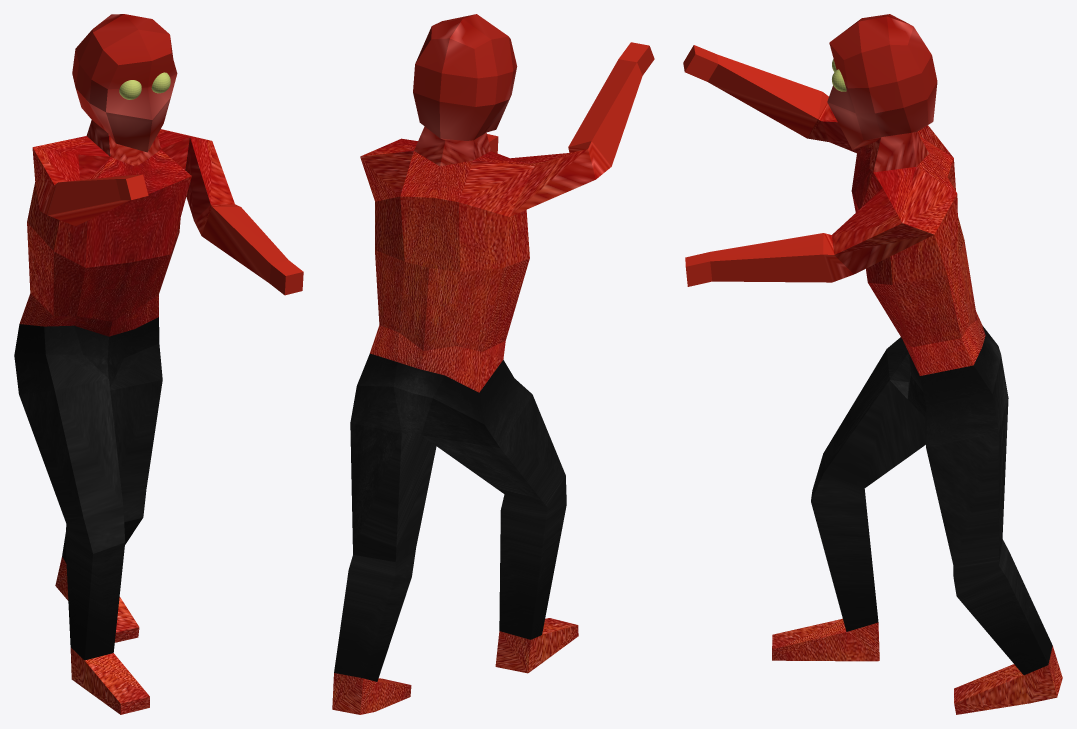
Rendered from laySheary_000036.obj.
3 views of the same model, side by side, from view 1: azimuth 30°, elevation 25°; view 2: azimuth 150°, elevation 25°; view 3: azimuth 270°, elevation 25° (orthographic). The views are drawn at different scales.
Parts seen in each view (by area): view 1: Cube; view 2: Cube; view 3: Cube.
Boxes of the visible parts, x1,y1,x2,y2 form: Cube: (14, 14, 303, 714); Cube: (332, 14, 654, 714); Cube: (683, 14, 1062, 714).
Size of the model in its own units: 5.26 by 15.93 by 8.12.
Materials: 3 (2 with a texture image).
